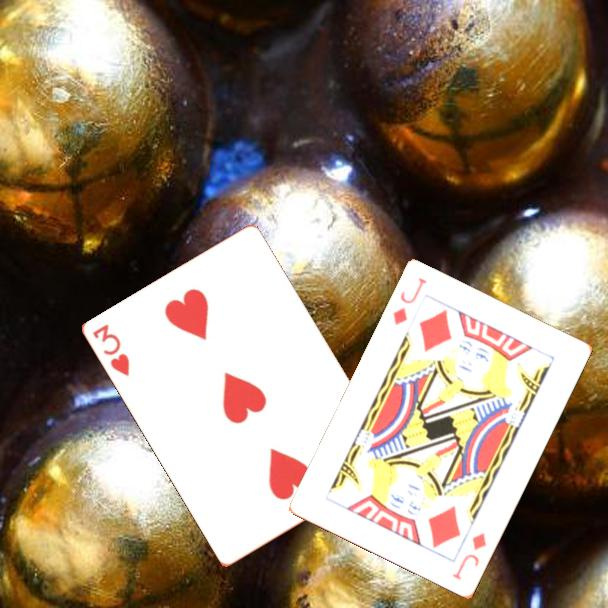d11: (389, 274, 430, 329), (449, 530, 489, 583)
h03: (89, 320, 133, 380)
